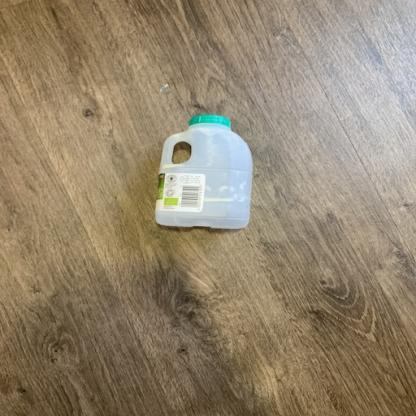trash: (154, 114, 256, 231)
